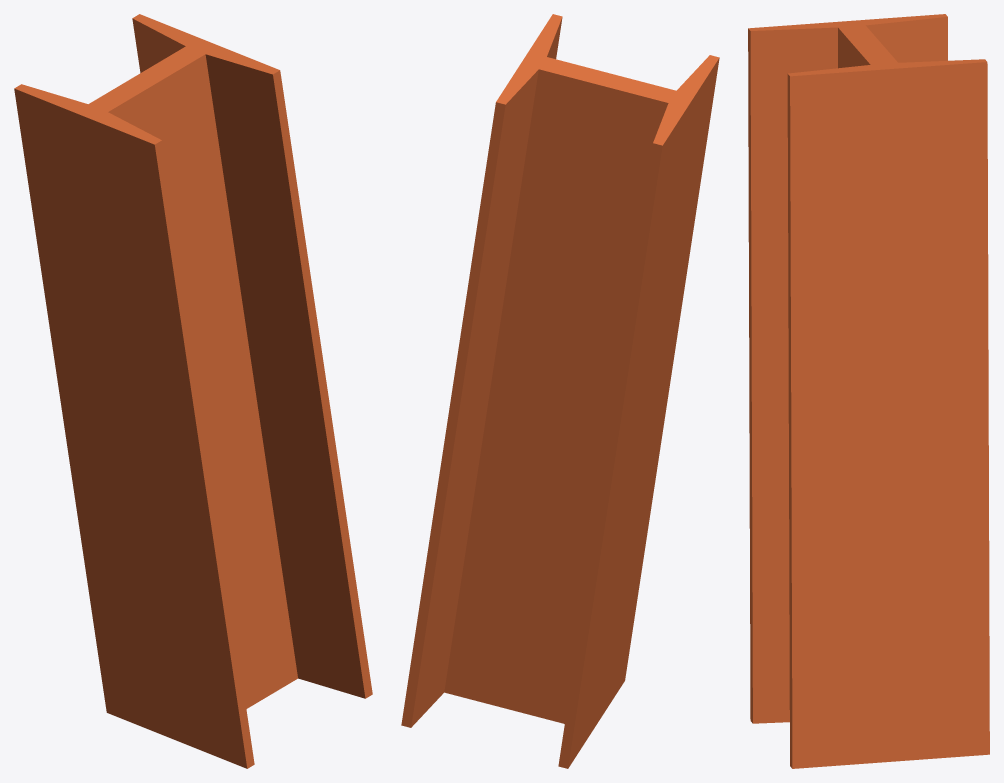
Rendered from Steel_Beam.fbx.
3 renders of one model, left to right at view 1: azimuth 30°, elevation 25°; view 2: azimuth 150°, elevation 25°; view 3: azimuth 270°, elevation 25°, orthographic.
Parts seen in each view (by area): view 1: Cube.002; view 2: Cube.002; view 3: Cube.002.
Boxes of the visible parts, <box> form: Cube.002: <box>14,14,372,768</box>; Cube.002: <box>401,14,719,768</box>; Cube.002: <box>748,14,989,768</box>.
Bounding box in the file's own units: 215 × 493 × 160.
